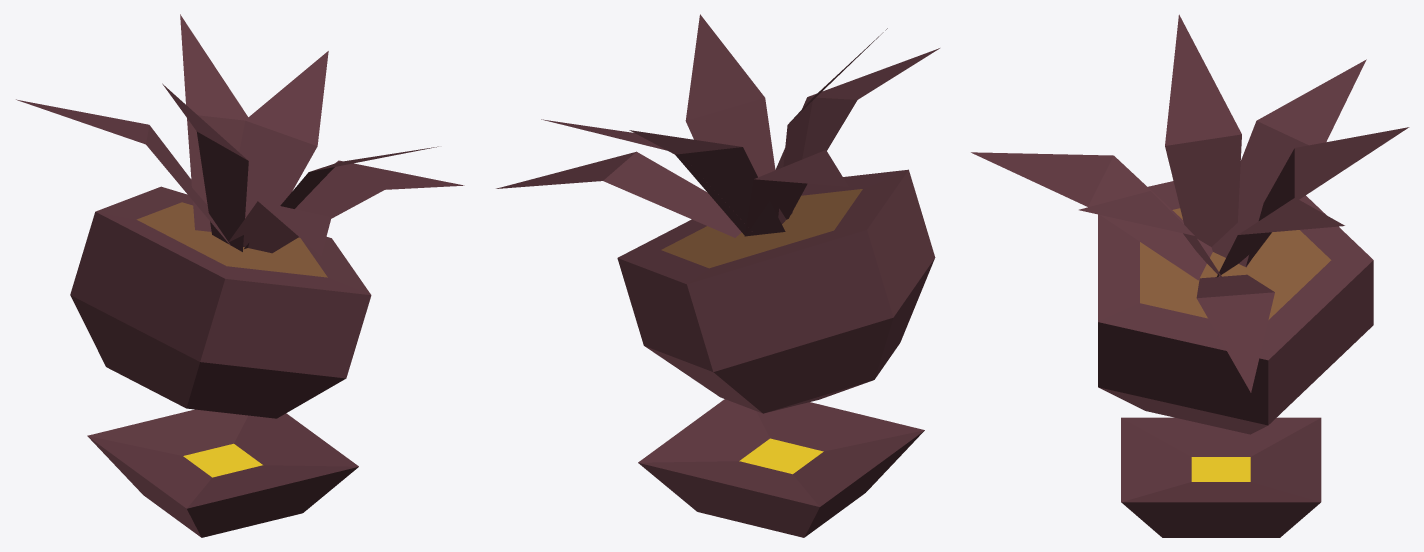
File: scifi-scifi-houseplant.glb
3 renders of one model, left to right at view 1: azimuth 30°, elevation 25°; view 2: azimuth 150°, elevation 25°; view 3: azimuth 270°, elevation 25°, orthographic. The views are drawn at different scales.
Visible parts, largest first — view 1: scifi-houseplant; view 2: scifi-houseplant; view 3: scifi-houseplant.
Part boxes in pixels (left/top/right/bottom): scifi-houseplant: left=16, top=14, right=464, bottom=537; scifi-houseplant: left=496, top=14, right=939, bottom=537; scifi-houseplant: left=971, top=14, right=1409, bottom=537.
Bounding box in the file's own units: 0.3412 × 0.3782 × 0.3285.
